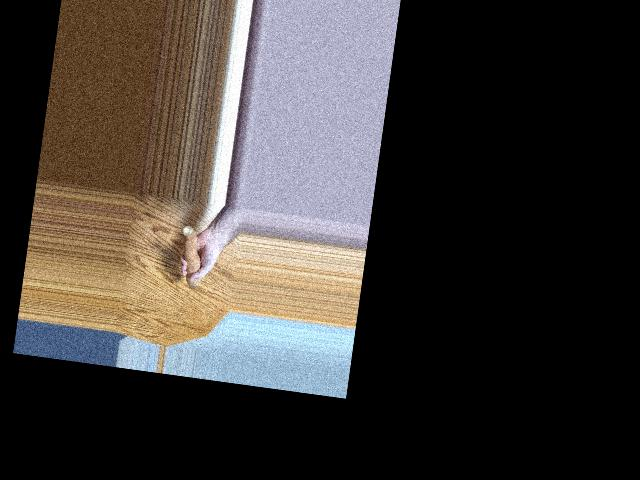sweet_potato: (178, 220, 211, 284)
